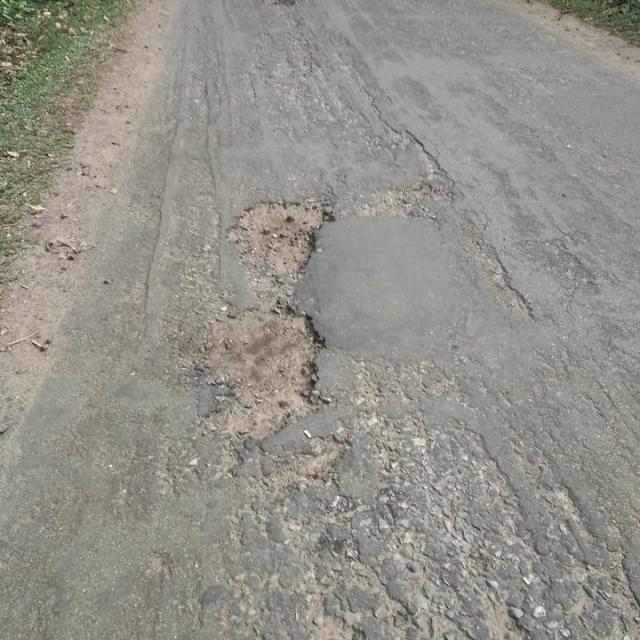Pothole: (188, 303, 332, 450), (223, 193, 340, 291)
